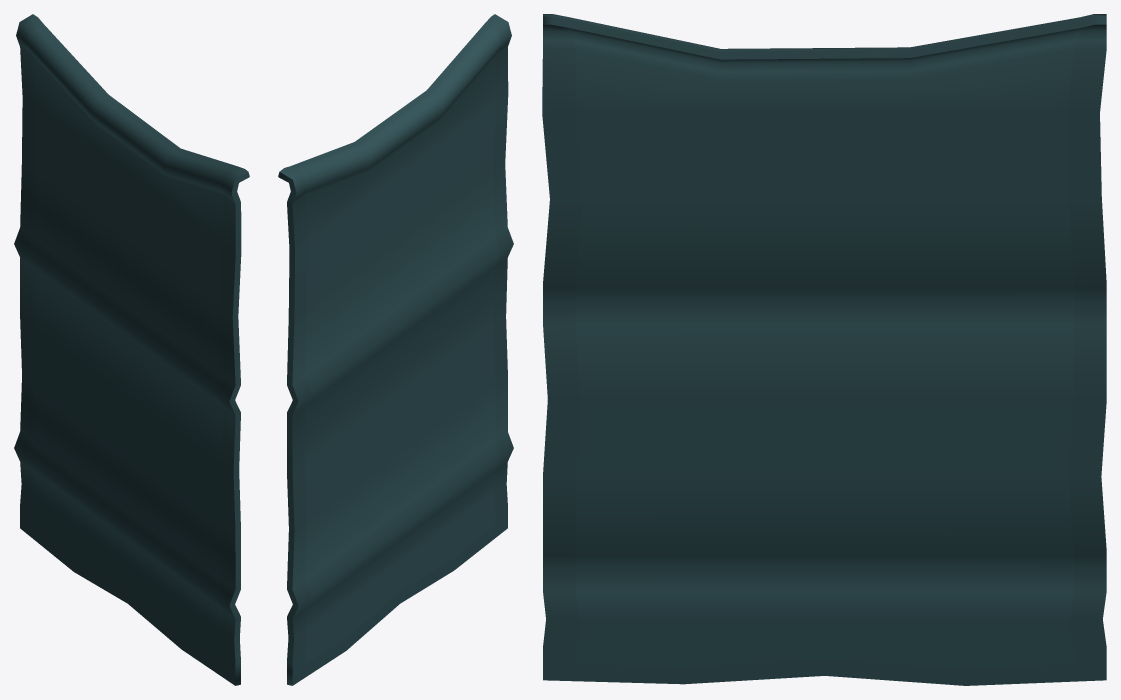
Rendered from Scaffold_sheet_2_3.glb.
The picture shows the model from 3 angles, left to right: view 1: azimuth 30°, elevation 25°; view 2: azimuth 150°, elevation 25°; view 3: azimuth 270°, elevation 25°; orthographic projection. The views are drawn at different scales.
Parts seen in each view (by area): view 1: Scaffold_sheet_2_3; view 2: Scaffold_sheet_2_3; view 3: Scaffold_sheet_2_3.
Part boxes in pixels (x1,y1,x2,y2): Scaffold_sheet_2_3: [14, 14, 249, 685]; Scaffold_sheet_2_3: [278, 14, 513, 685]; Scaffold_sheet_2_3: [542, 14, 1106, 685].
Size of the model in its own units: 0.101 by 2.42 by 1.84.
1 material, 1 textured.
